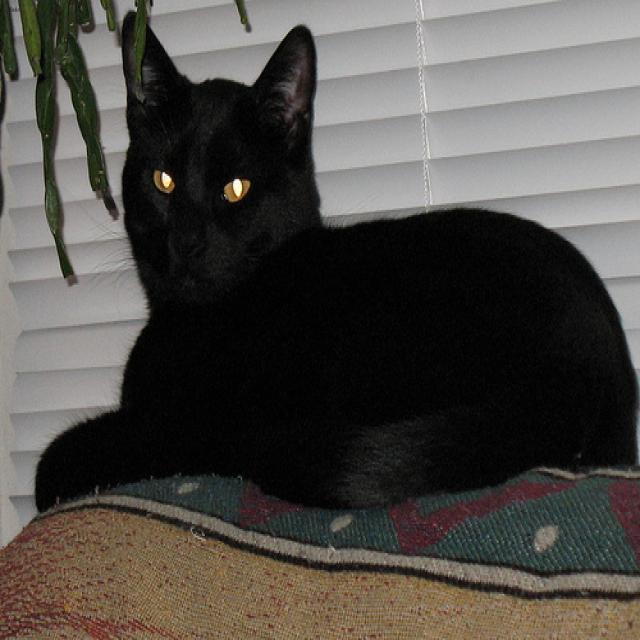Bombay: (127, 21, 329, 323)
